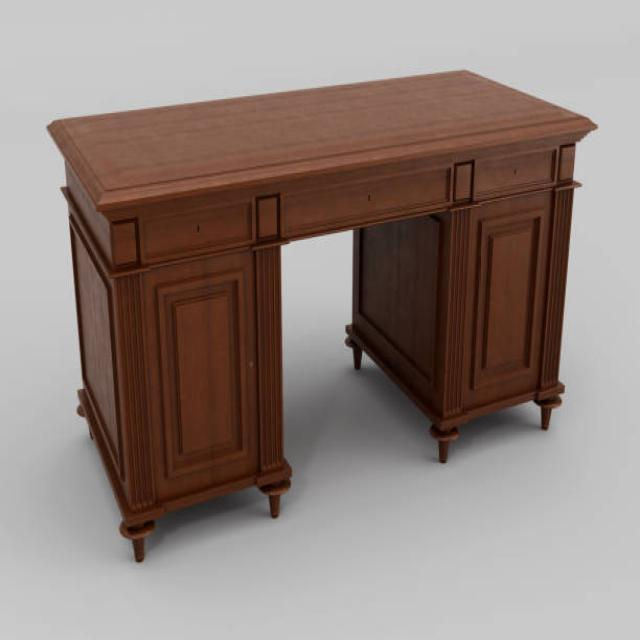table: (46, 67, 598, 562)
